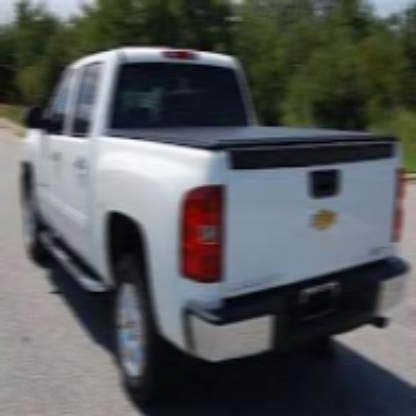Vehicle: (21, 45, 413, 395)
